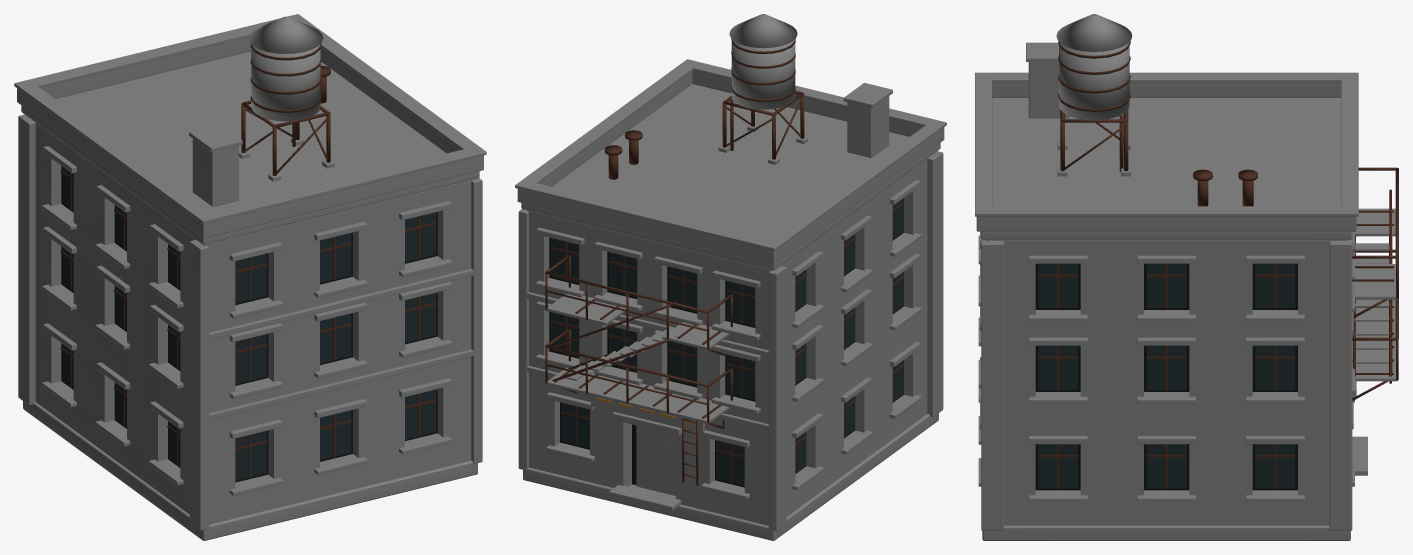
Rendered from noir-tenement.glb.
The picture shows the model from 3 angles, left to right: view 1: azimuth 30°, elevation 25°; view 2: azimuth 150°, elevation 25°; view 3: azimuth 270°, elevation 25°; orthographic projection. The views are drawn at different scales.
Parts seen in each view (by area): view 1: brick shell, chimney cap, window glass, drop ladder rail, entry door, entry reveal; view 2: chimney cap, brick shell, entry door, window glass, drop ladder rail, entry reveal; view 3: chimney cap, brick shell, window glass, entry door, drop ladder rail, entry reveal.
Boxes of the visible parts, x1,y1,x2,y2 form: brick shell: [17, 37, 483, 524]; chimney cap: [14, 14, 486, 540]; window glass: [61, 166, 435, 480]; drop ladder rail: [60, 43, 436, 477]; entry door: [248, 16, 323, 121]; entry reveal: [61, 203, 437, 482]; chimney cap: [515, 59, 946, 540]; brick shell: [517, 70, 944, 525]; entry door: [546, 14, 797, 495]; window glass: [550, 198, 903, 485]; drop ladder rail: [545, 39, 904, 485]; entry reveal: [549, 232, 903, 487]; chimney cap: [975, 42, 1367, 540]; brick shell: [976, 62, 1356, 525]; window glass: [1038, 263, 1295, 488]; entry door: [1056, 14, 1396, 381]; drop ladder rail: [1038, 41, 1398, 488]; entry reveal: [1035, 263, 1297, 490].
Bounding box in the file's own units: 7.38 × 11.18 × 9.38.
